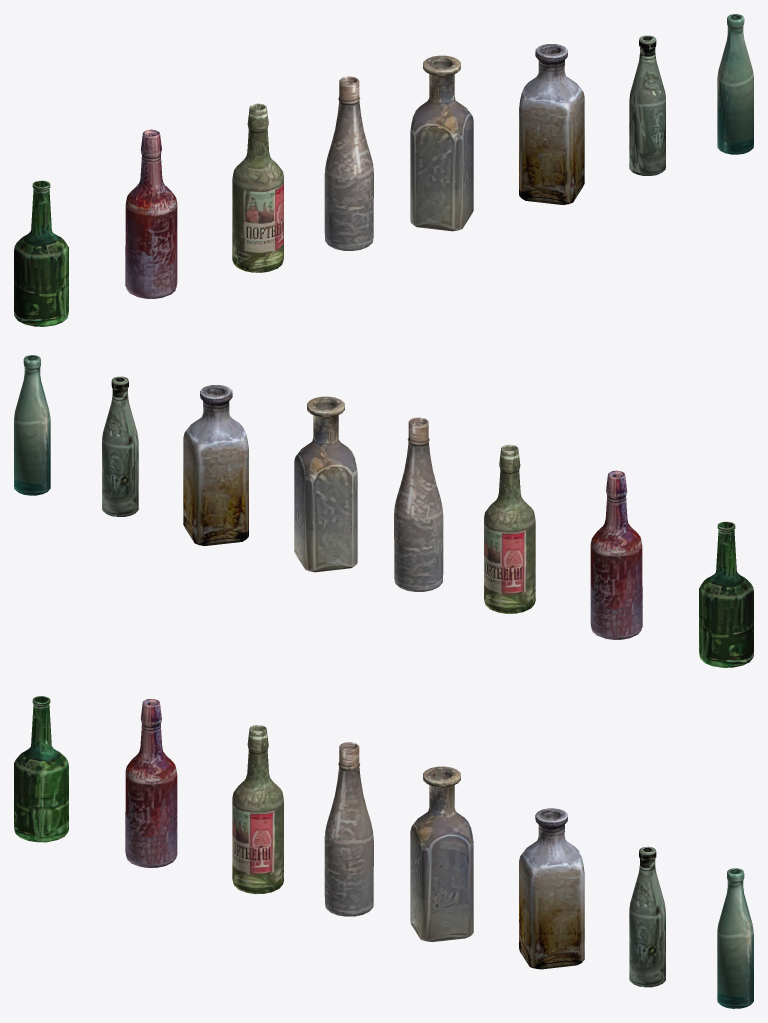
Rendered from bottles.fbx.
3 views of the same model, one above another, from view 1: azimuth 30°, elevation 25°; view 2: azimuth 150°, elevation 25°; view 3: azimuth 330°, elevation 25° (orthographic).
Parts seen in each view (by area): view 1: bottle_6, bottle_7, bottle_3, bottle_4, bottle_5, bottle_2, bottle, bottle_1; view 2: bottle_6, bottle_7, bottle_3, bottle_4, bottle_5, bottle_2, bottle, bottle_1; view 3: bottle_6, bottle_7, bottle_3, bottle_4, bottle_5, bottle_2, bottle, bottle_1.
Part boxes in pixels (x1=…): bottle_6: x1=410, y1=55, x2=473, y2=231; bottle_7: x1=519, y1=44, x2=584, y2=204; bottle_3: x1=125, y1=129, x2=177, y2=298; bottle_4: x1=232, y1=103, x2=283, y2=272; bottle_5: x1=324, y1=76, x2=373, y2=250; bottle_2: x1=14, y1=180, x2=68, y2=326; bottle: x1=717, y1=14, x2=753, y2=154; bottle_1: x1=629, y1=35, x2=665, y2=175; bottle_6: x1=294, y1=396, x2=357, y2=572; bottle_7: x1=183, y1=385, x2=248, y2=545; bottle_3: x1=590, y1=470, x2=642, y2=639; bottle_4: x1=484, y1=444, x2=535, y2=613; bottle_5: x1=394, y1=417, x2=443, y2=591; bottle_2: x1=699, y1=521, x2=753, y2=667; bottle: x1=14, y1=355, x2=50, y2=495; bottle_1: x1=102, y1=376, x2=138, y2=516; bottle_6: x1=410, y1=766, x2=473, y2=942; bottle_7: x1=519, y1=808, x2=584, y2=969; bottle_3: x1=125, y1=699, x2=177, y2=867; bottle_4: x1=232, y1=725, x2=283, y2=894; bottle_5: x1=324, y1=742, x2=373, y2=916; bottle_2: x1=14, y1=696, x2=68, y2=842; bottle: x1=717, y1=868, x2=753, y2=1008; bottle_1: x1=629, y1=846, x2=665, y2=987.
Size of the model in its own units: 107 by 22.58 by 9.16.
Materials: 1 (1 with a texture image).
